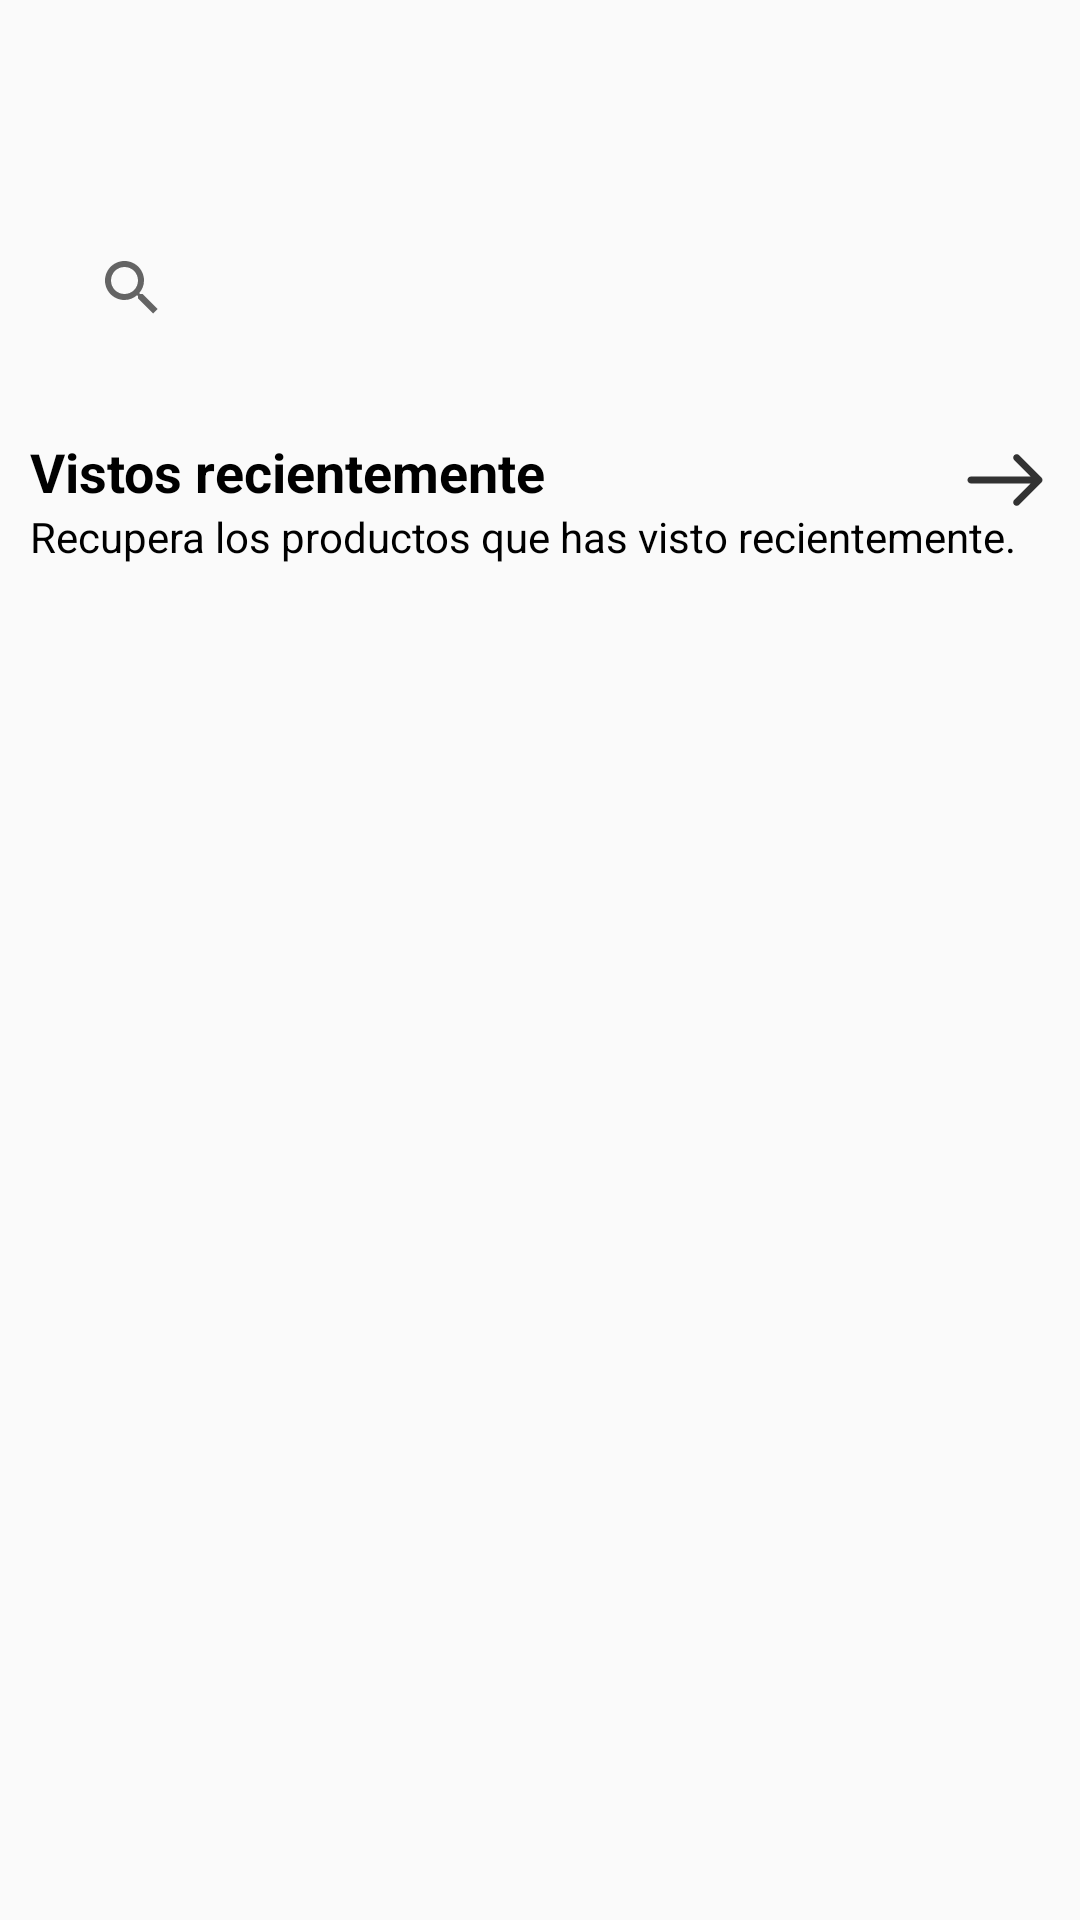

Where to tap for icons on this 1080 x 1920 app screen, as (x,y):
right arrow: (1005,480)
